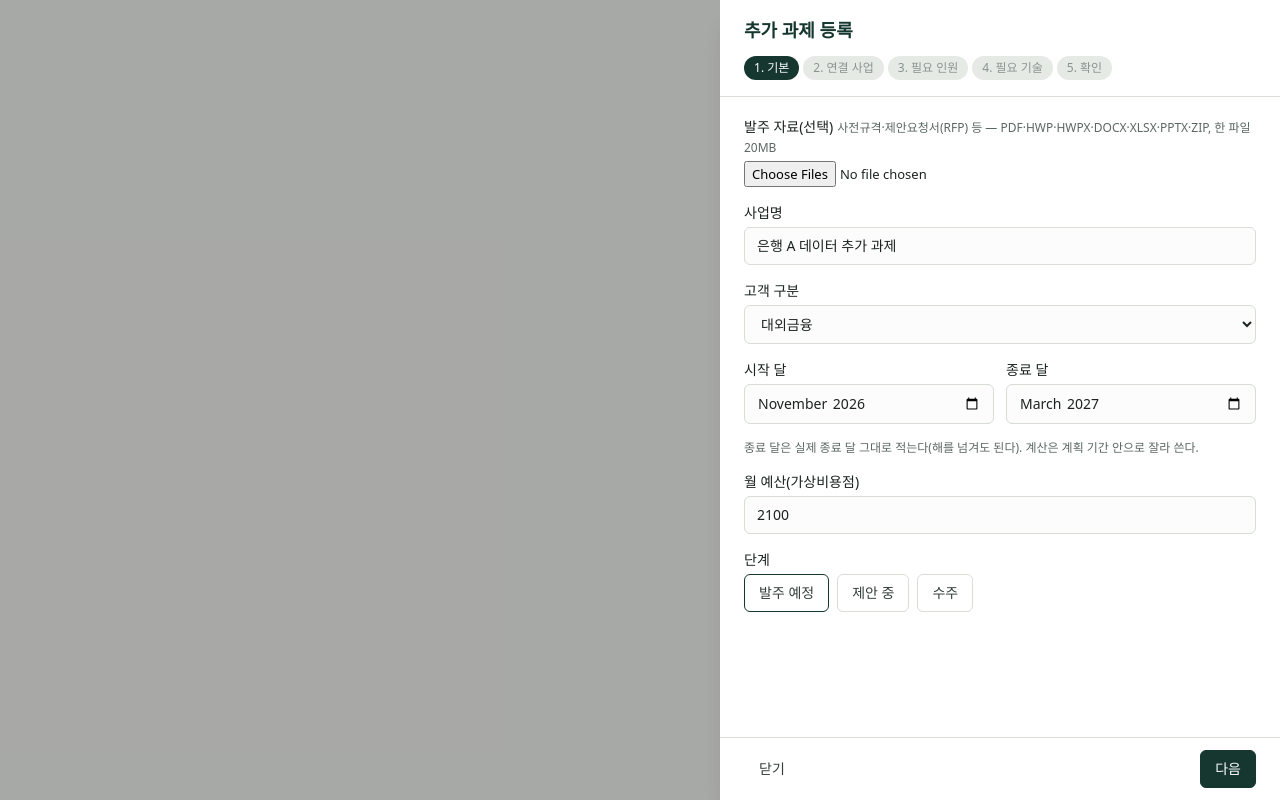
it: 추가 과제 › 상위 사업 기간을 벗어나면 다음으로 가지 못한다
expect the field labelled "사업명" holds "은행 A 데이터 추가 과제": met, box [744,227,1256,265]
Replace the text in the field labelled "종료 달" with "2027-06" at (1131, 404), box [1006,384,1256,424]
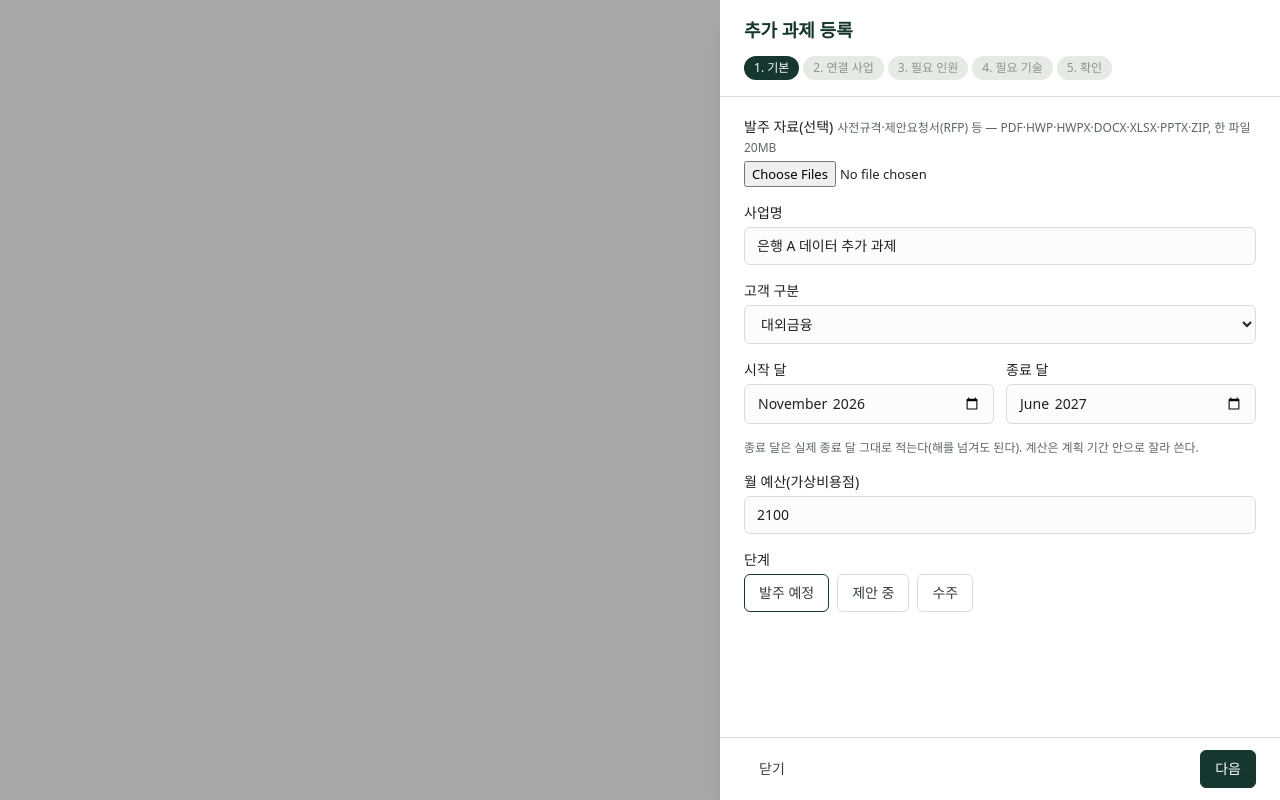
Click the button "다음" at (1228, 769), box [1200,750,1256,788]
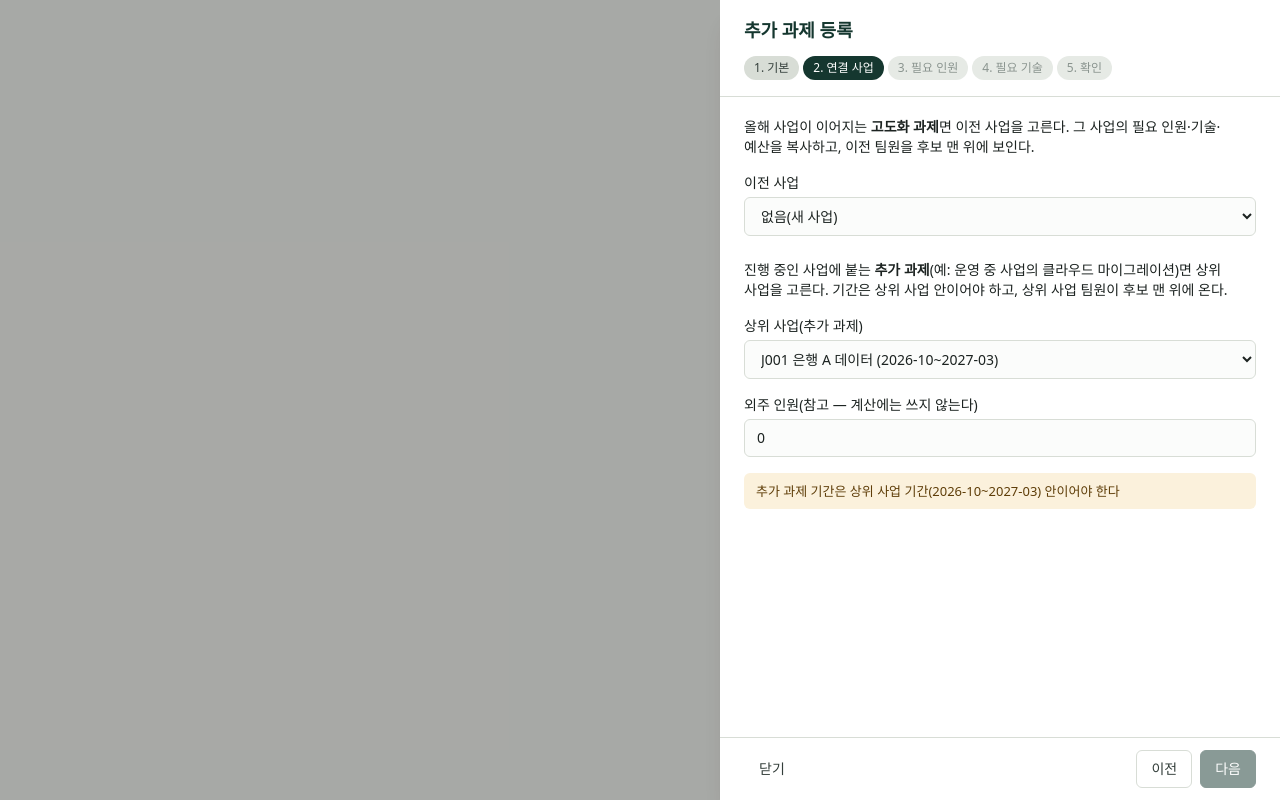
expect the message shows "상위 사업 기간(2026-10~2027-03) 안이어야 한다": met, box [756,482,1120,500]
expect the button "다음" is disabled: met, box [1200,750,1256,788]
